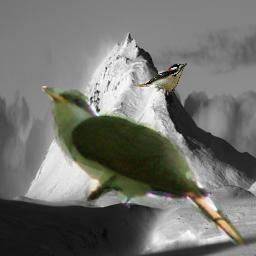Cuckoo: (38, 86, 250, 247)
Woodpecker: (134, 62, 187, 92)
